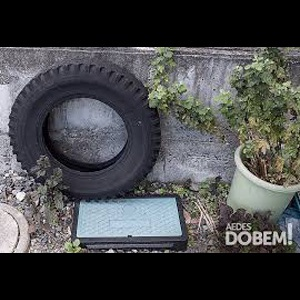tire: (10, 58, 162, 202)
